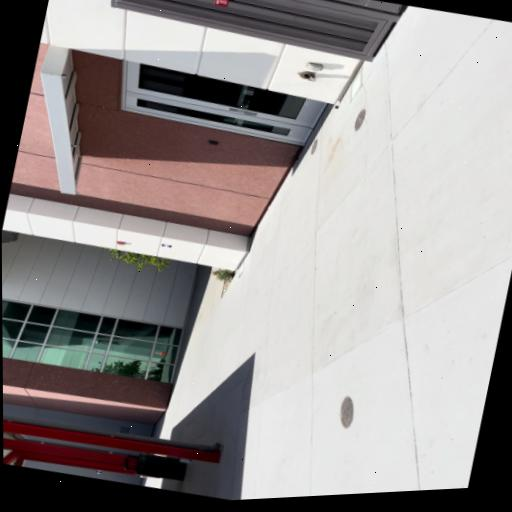target2: (160, 243, 171, 248)
